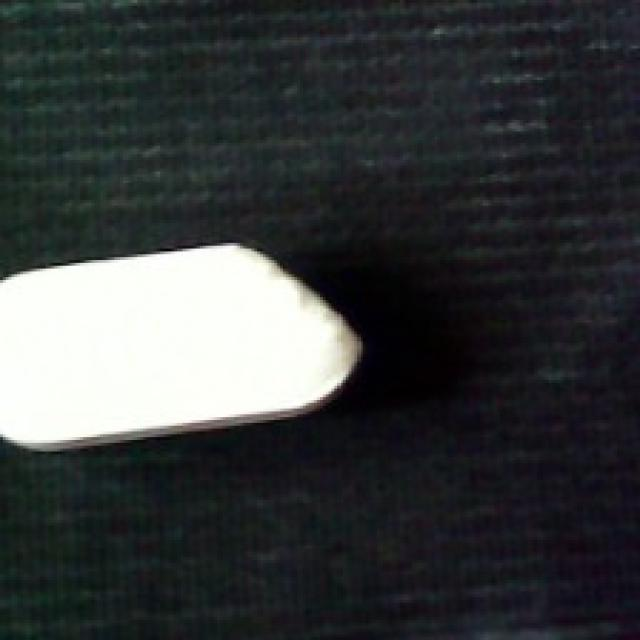defected: (0, 240, 369, 451)
